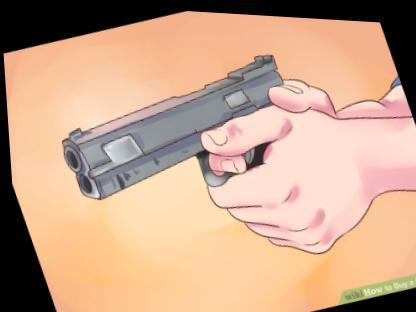pistol: (40, 38, 313, 228)
